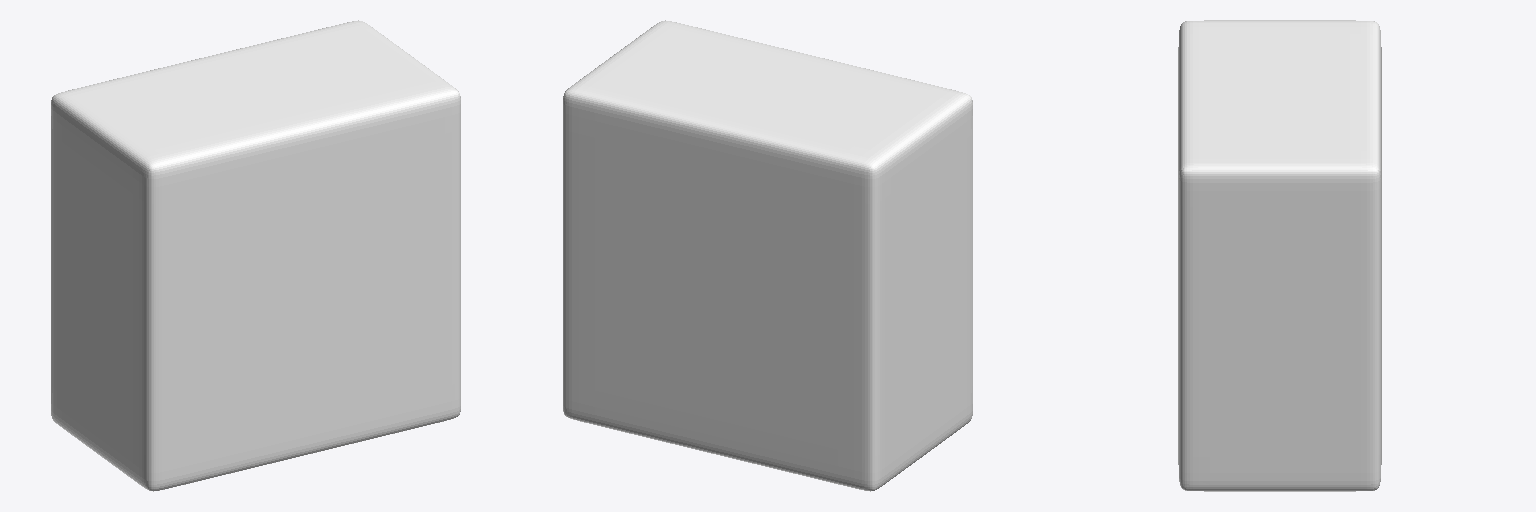
URDF robot description (p1.urdf):
<?xml version="0.0" ?>
<robot name="p1.urdf">
  <link name="baseLink">
    <contact>
      <lateral_friction value="1.0"/>
      <rolling_friction value="0.0"/>
      <!-- <spinning_friction value="0.01"> -->
      <inertia_scaling value="1.0"/>
      <contact_cfm value="0.0"/>
      <contact_erp value="1.0"/>
    </contact>
    <inertial>
      <origin rpy="0 0 0" xyz="0 0 0"/>
       <mass value=".09"/>
       <inertia ixx="1" ixy="0" ixz="0" iyy="1" iyz="0" izz="1"/>
    </inertial>
    <visual>
      <origin rpy="0 0 0" xyz="0 0 0"/>
        <geometry>
      <mesh filename="P1.obj" scale=".06 .06 .06"/>
        </geometry>
        <material name="white">
          <color rgba="1 1 1 1"/>
        </material>
    </visual>
    <collision>
        <origin rpy="0 0 0" xyz="0 0 0"/>
        <geometry>
          <box size=".06 .06 .06"/>
        </geometry>
    </collision>
  </link>
</robot>

--- Facts derived from the render (not from the file) ---
Views: 3 orthographic renders of the robot side by side, from view 1: azimuth 30°, elevation 25°; view 2: azimuth 150°, elevation 25°; view 3: azimuth 270°, elevation 25°.
Robot: p1.urdf — 1 links, 0 joints (none); root link baseLink; default pose: every joint at zero.
Visible links, largest first — view 1: baseLink; view 2: baseLink; view 3: baseLink.
Boxes of the visible links, x1,y1,x2,y2 form: baseLink: [51, 20, 460, 491]; baseLink: [563, 20, 972, 491]; baseLink: [1178, 20, 1381, 491].
Bounding box of the posed robot: 0.2129 × 0.12 × 0.2129 m (x, y, z).
Meshes: 1 distinct files referenced, 1 mesh visuals loaded (1 OBJ).